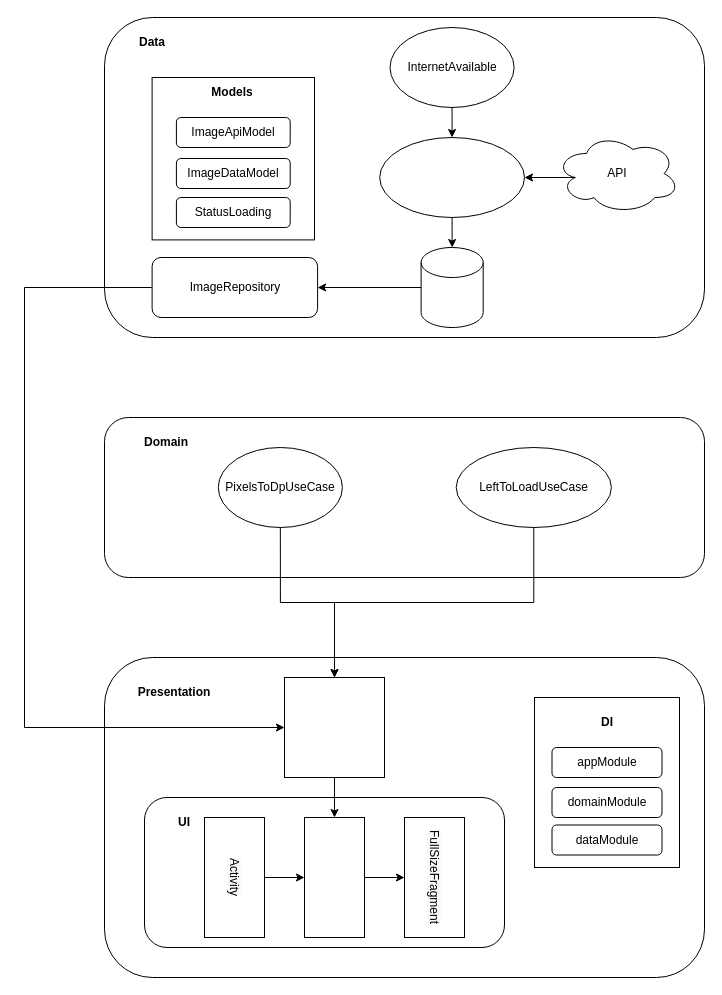
Some shapes in this 722 by 995 pixel diagram are drawn without their labels. The shapes that lost their labels are listed below. From the top down, each one's centre as x and y in pixels, then its label:
At (x=451, y=177): "AddImageToDataBase".
At (x=451, y=287): "ImageDB".
At (x=334, y=727): "ImageViewModel".
At (x=334, y=877): "TableFragment".
